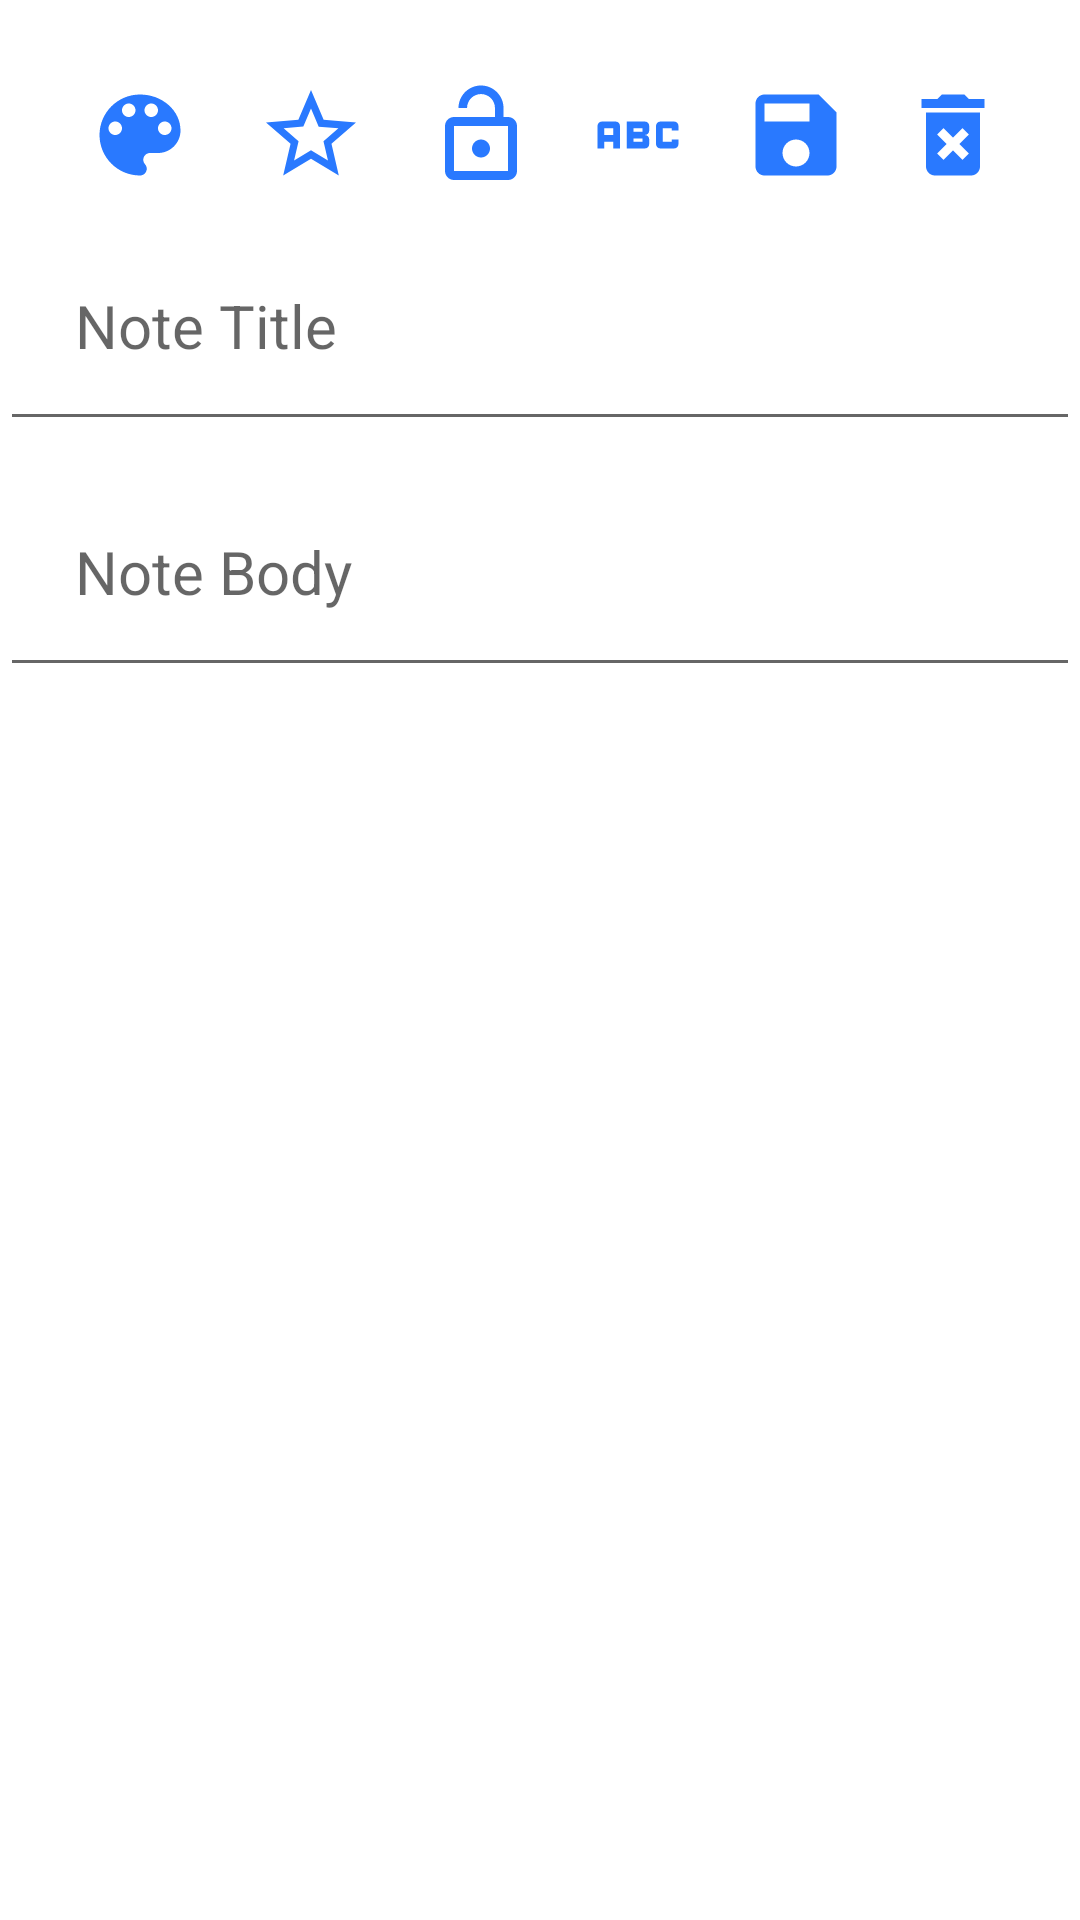

Icons on this 1080 x 1920 Android screen, each with the point to tap as (x,y):
color lens: (140,135)
delete: (953,135)
lock: (481,132)
save: (796,135)
star: (311,133)
